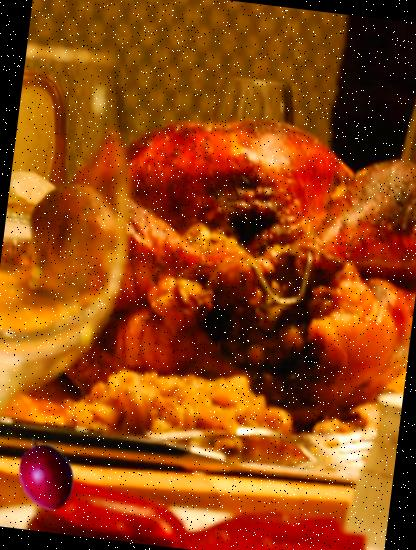Tamarillo: (3, 434, 84, 514)
